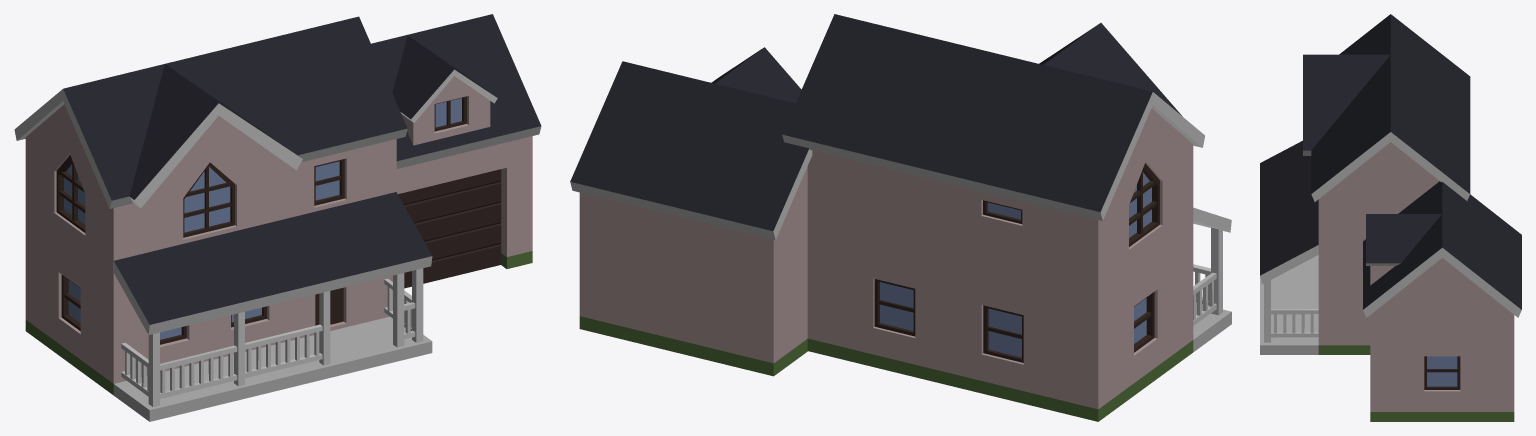
The model's file is FamilyHouse_03.fbx.
The picture shows the model from 3 angles, left to right: view 1: azimuth 30°, elevation 25°; view 2: azimuth 150°, elevation 25°; view 3: azimuth 270°, elevation 25°; orthographic projection. The views are drawn at different scales.
Parts seen in each view (by area): view 1: FamilyHouse_03; view 2: FamilyHouse_03; view 3: FamilyHouse_03.
Boxes of the visible parts, left/top/right/bottom form: FamilyHouse_03: left=14, top=14, right=541, bottom=421; FamilyHouse_03: left=570, top=14, right=1231, bottom=421; FamilyHouse_03: left=1260, top=14, right=1521, bottom=421.
Size of the model in its own units: 16.64 by 9.54 by 10.02.
